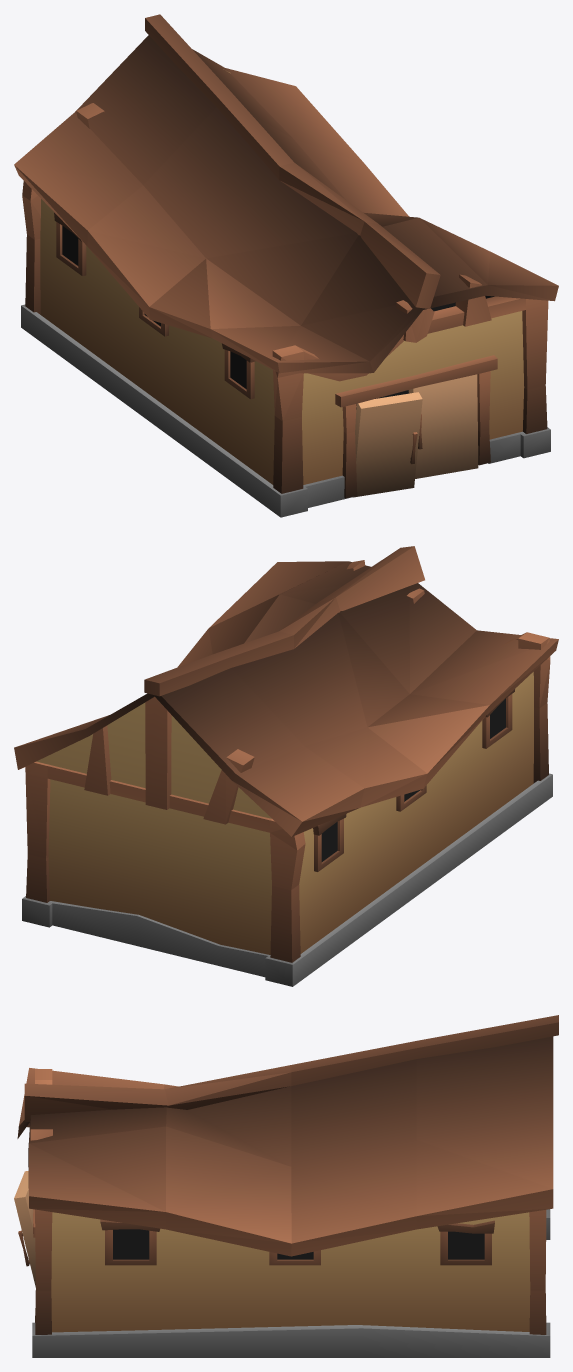
The model's file is Barn.fbx.
The picture shows the model from 3 angles, top to bottom: view 1: azimuth 30°, elevation 25°; view 2: azimuth 150°, elevation 25°; view 3: azimuth 270°, elevation 25°; orthographic projection.
Parts seen in each view (by area): view 1: Barn; view 2: Barn; view 3: Barn.
Boxes of the visible parts, x1,y1,x2,y2 form: Barn: [14, 14, 558, 517]; Barn: [14, 546, 558, 986]; Barn: [14, 1015, 558, 1357].
Bounding box in the file's own units: 248 × 233 × 411.
Materials: 1 (1 with a texture image).
